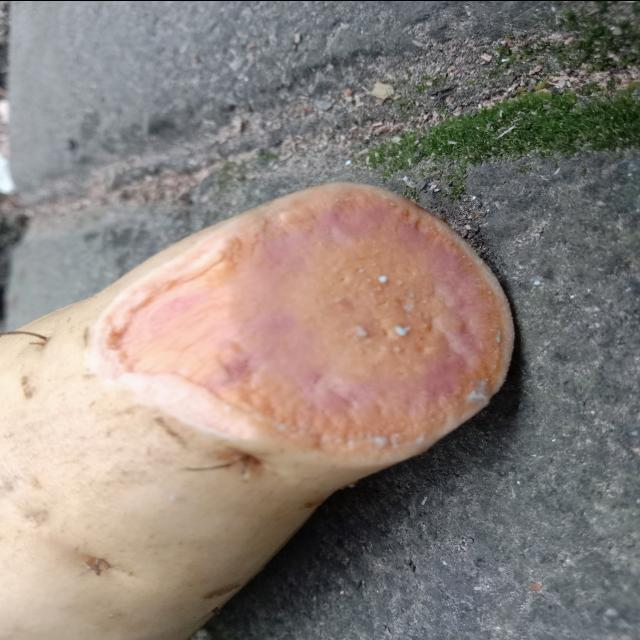Healthy Sweet Potato: (90, 182, 513, 459)
